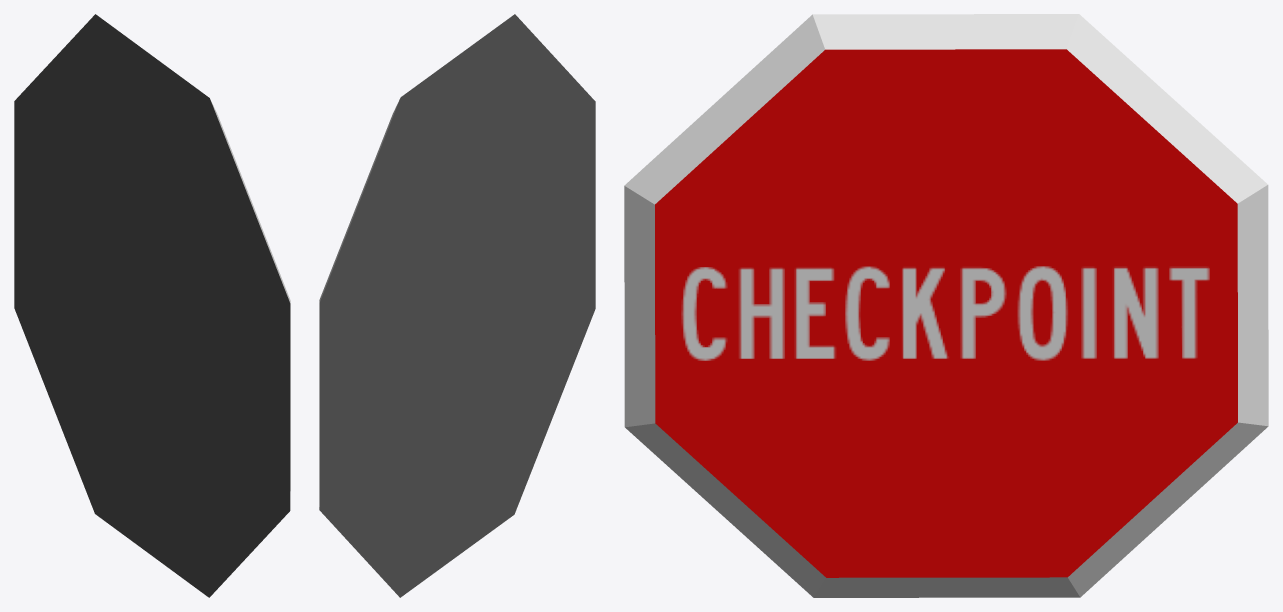
3 views of the same model, side by side, from view 1: azimuth 30°, elevation 25°; view 2: azimuth 150°, elevation 25°; view 3: azimuth 270°, elevation 25° (orthographic). The views are drawn at different scales.
Visible parts, largest first — view 1: Sign; view 2: Sign; view 3: Sign.
Part boxes in pixels (left/top/right/bottom): Sign: left=14, top=14, right=290, bottom=597; Sign: left=319, top=14, right=595, bottom=597; Sign: left=624, top=14, right=1268, bottom=597.
Bounding box in the file's own units: 0.0515 × 1.85 × 1.85.
3 materials, 1 textured.
